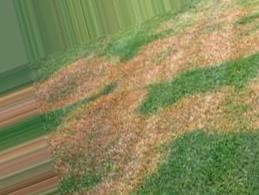patch: (74, 110, 140, 179), (158, 103, 249, 134), (64, 66, 152, 87), (164, 36, 247, 53), (199, 13, 247, 36)
